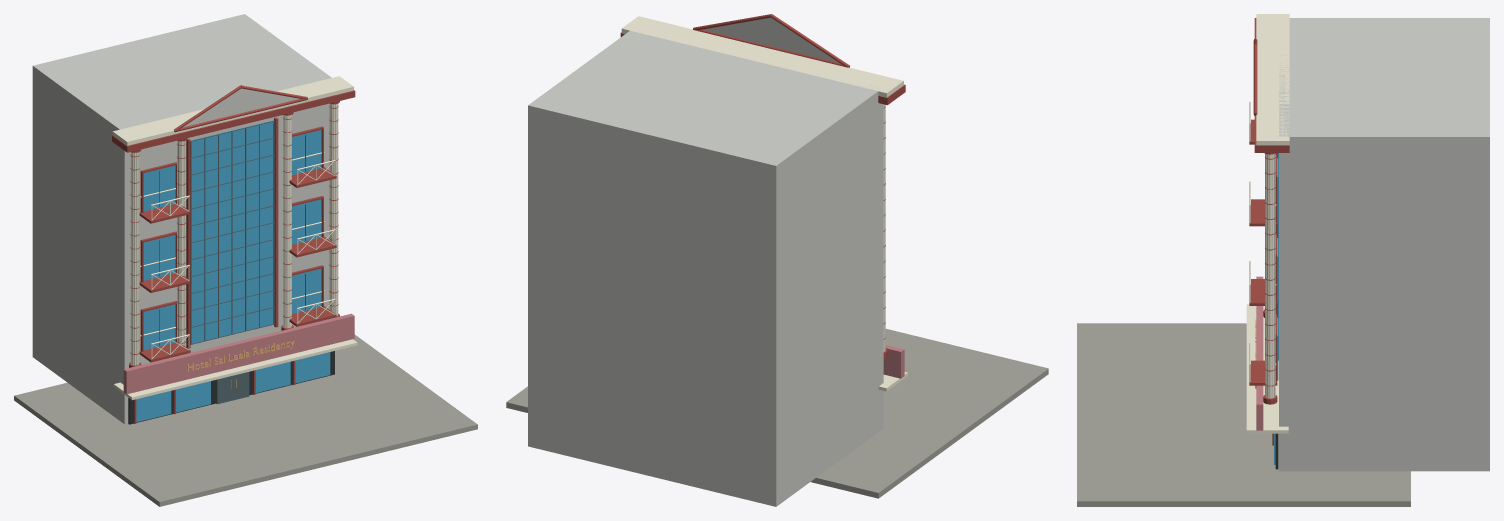
The model's file is sai_leela_residency.glb.
The picture shows the model from 3 angles, left to right: view 1: azimuth 30°, elevation 25°; view 2: azimuth 150°, elevation 25°; view 3: azimuth 270°, elevation 25°; orthographic projection. The views are drawn at different scales.
Visible parts, largest first — view 1: Estimated building body, Pavement, Central curtain glazing, Rose hotel sign, Roof pale fascia, Entrance canopy underside, Roof projecting cornice, Tall cream column, Triangular roof pediment, Tall cream column.003, Tall cream column.001, Balcony blue window (+20 smaller); view 2: Estimated building body, Pavement, Roof pale fascia, Triangular roof pediment, Rose hotel sign; view 3: Estimated building body, Pavement, Roof pale fascia, Entrance canopy underside, Tall cream column.003, Rose hotel sign, Column fluting.046, Column fluting.047.
Part boxes in pixels (x1,y1,x2,y2): Estimated building body: (32, 14, 336, 424); Pavement: (14, 334, 477, 506); Central curtain glazing: (191, 120, 274, 343); Rose hotel sign: (123, 313, 354, 394); Roof pale fascia: (112, 76, 353, 145); Entrance canopy underside: (113, 339, 357, 400); Roof projecting cornice: (112, 90, 355, 152); Tall cream column: (131, 152, 138, 365); Triangular roof pediment: (183, 88, 299, 127); Tall cream column.003: (330, 104, 337, 315); Tall cream column.001: (177, 141, 185, 346); Balcony blue window: (143, 304, 175, 350); Estimated building body: (528, 30, 883, 506); Pavement: (506, 329, 1048, 498); Roof pale fascia: (621, 16, 903, 97); Triangular roof pediment: (703, 17, 839, 63); Rose hotel sign: (883, 345, 904, 378); Estimated building body: (1279, 18, 1489, 471); Pavement: (1077, 323, 1410, 506); Roof pale fascia: (1256, 14, 1289, 145); Entrance canopy underside: (1246, 304, 1288, 433); Tall cream column.003: (1266, 154, 1273, 398); Rose hotel sign: (1256, 276, 1263, 430); Column fluting.046: (1265, 154, 1266, 397); Column fluting.047: (1267, 154, 1268, 397).
Size of the model in its own units: 24 by 23.47 by 23.5.
